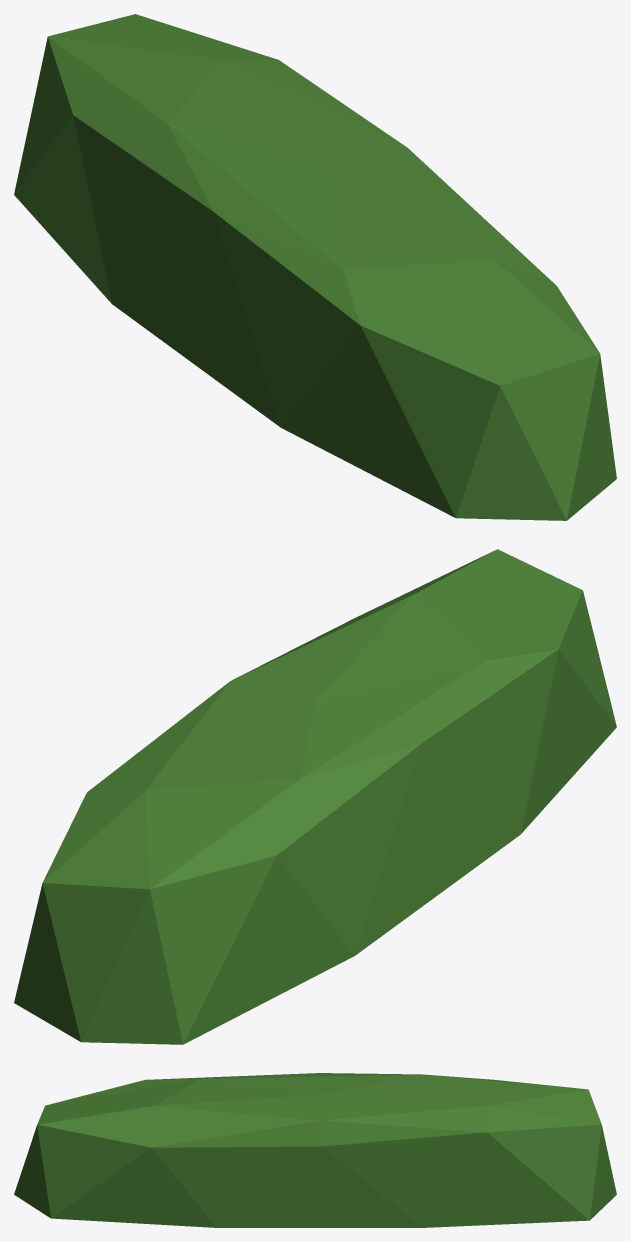
Rendered from BushV3.fbx.
3 views of the same model, one above another, from view 1: azimuth 30°, elevation 25°; view 2: azimuth 150°, elevation 25°; view 3: azimuth 270°, elevation 25° (orthographic). The views are drawn at different scales.
Visible parts, largest first — view 1: Icosphere.001; view 2: Icosphere.001; view 3: Icosphere.001.
Part boxes in pixels (x1=…): Icosphere.001: x1=14, y1=14, x2=616, y2=520; Icosphere.001: x1=14, y1=549, x2=616, y2=1044; Icosphere.001: x1=14, y1=1073, x2=616, y2=1227.
Size of the model in its own units: 24.34 by 16.79 by 90.32.
